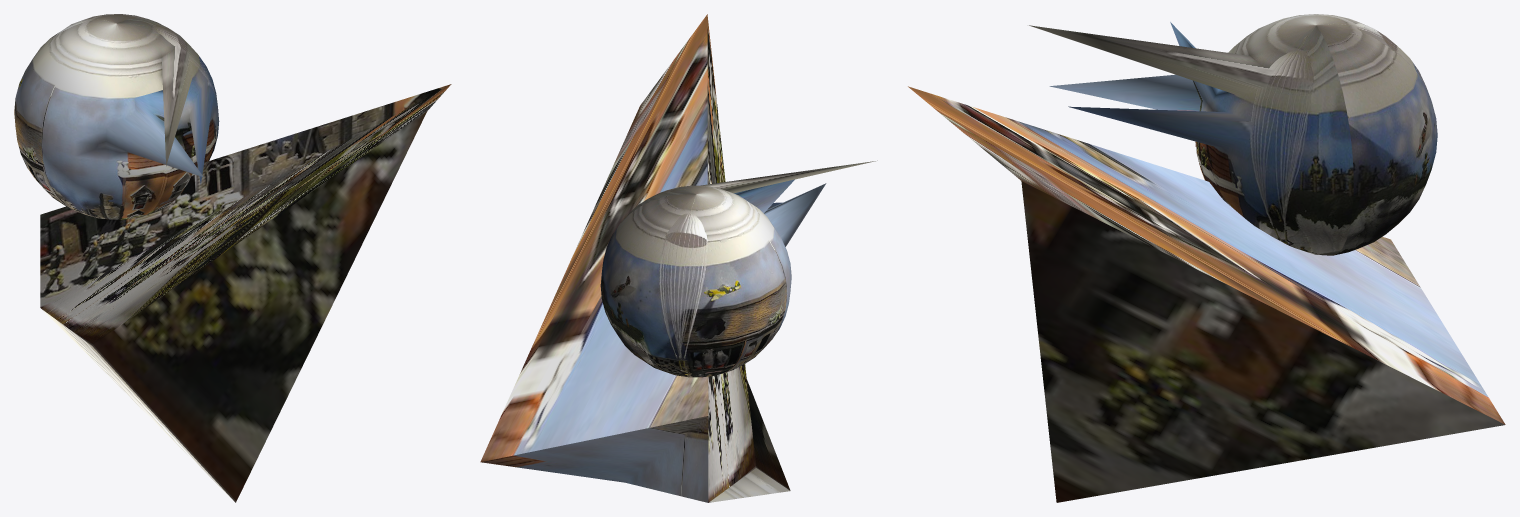
The model's file is Sample Maya.fbx.
The picture shows the model from 3 angles, left to right: view 1: azimuth 30°, elevation 25°; view 2: azimuth 150°, elevation 25°; view 3: azimuth 270°, elevation 25°; orthographic projection. The views are drawn at different scales.
Visible parts, largest first — view 1: pCube1, pSphere1; view 2: pCube1, pSphere1; view 3: pCube1, pSphere1.
Boxes of the visible parts, bbox=[...] form: pCube1: bbox=[40, 84, 451, 502]; pSphere1: bbox=[14, 14, 219, 219]; pCube1: bbox=[480, 14, 790, 502]; pSphere1: bbox=[600, 160, 877, 377]; pCube1: bbox=[908, 86, 1505, 502]; pSphere1: bbox=[1029, 14, 1437, 255].
Bounding box in the file's own units: 3.08 × 4.58 × 4.93.
Materials: 1 (1 with a texture image).
